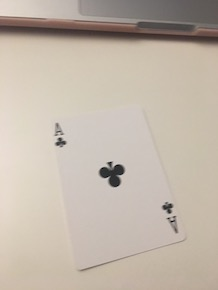AceOfClubs: (47, 98, 190, 271)
